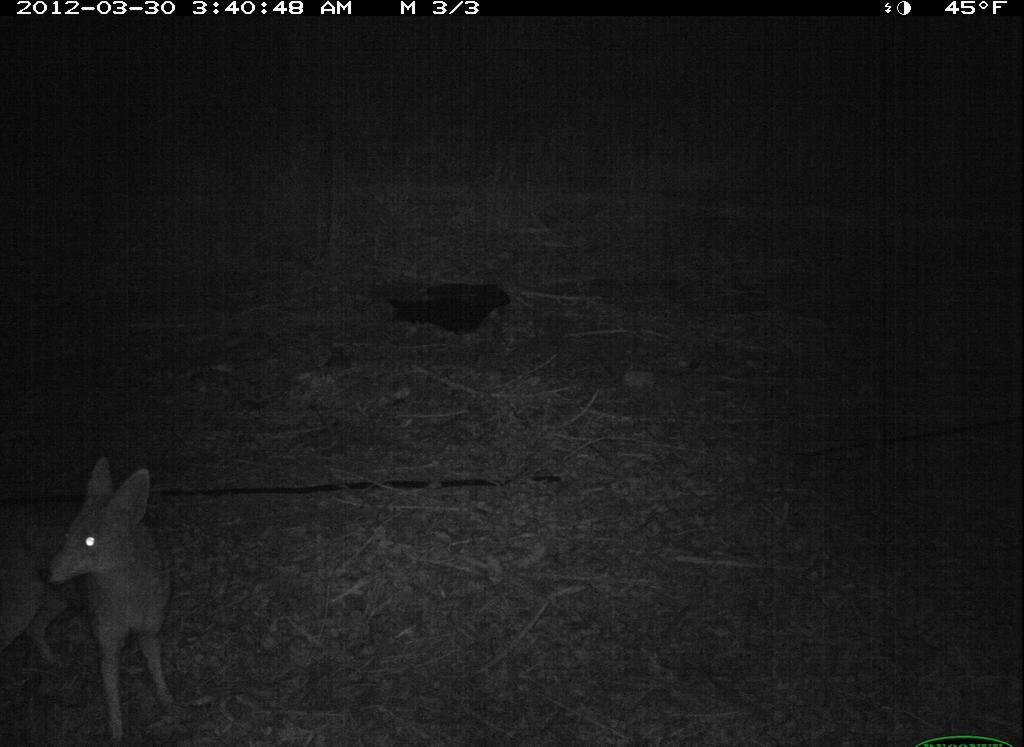coyote: (9, 452, 218, 740)
